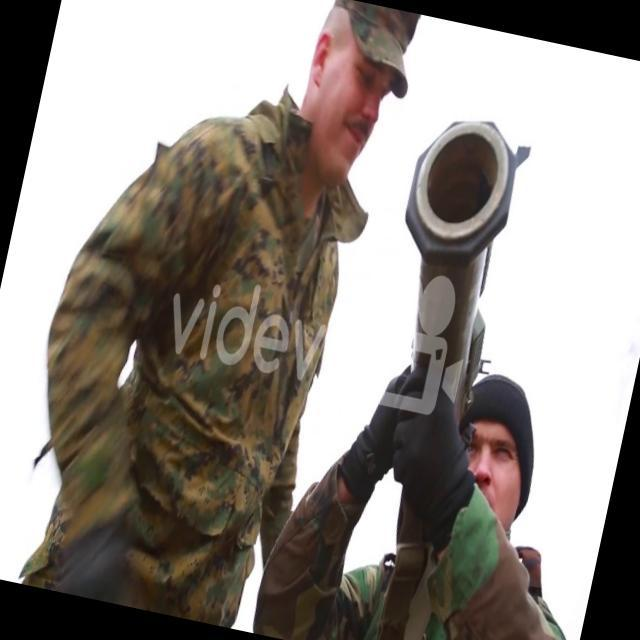rocket: (370, 106, 534, 412)
